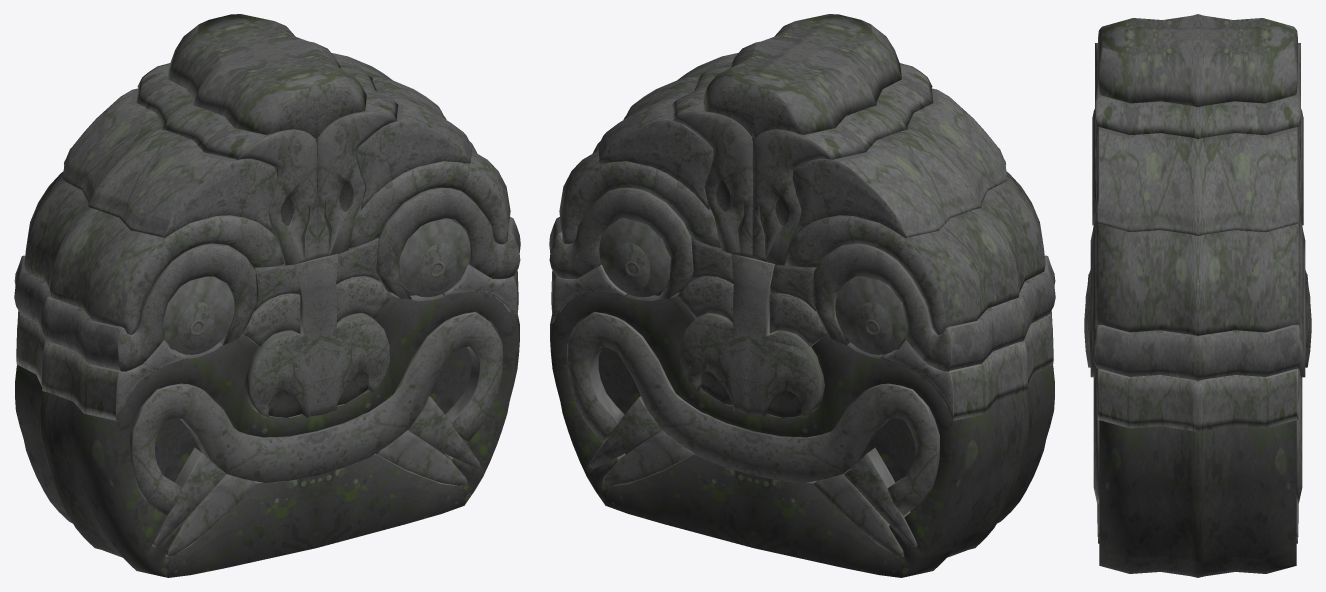
File: ASSETMODEL_PROP_ROCK_CABEZACLAVA.fbx
The picture shows the model from 3 angles, left to right: view 1: azimuth 30°, elevation 25°; view 2: azimuth 150°, elevation 25°; view 3: azimuth 270°, elevation 25°; orthographic projection.
Visible parts, largest first — view 1: Cara; view 2: Cara; view 3: Cara.
Boxes of the visible parts, x1=… form: Cara: x1=14, y1=14, x2=520, y2=577; Cara: x1=549, y1=14, x2=1055, y2=577; Cara: x1=1084, y1=14, x2=1311, y2=577.
Size of the model in its own units: 865 by 839 by 372.
Materials: 1 (1 with a texture image).
